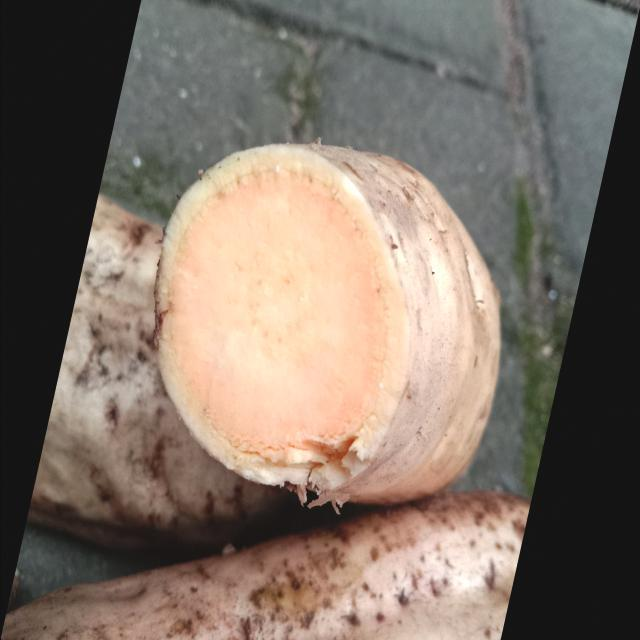Healthy Sweet Potato: (154, 145, 408, 502)
